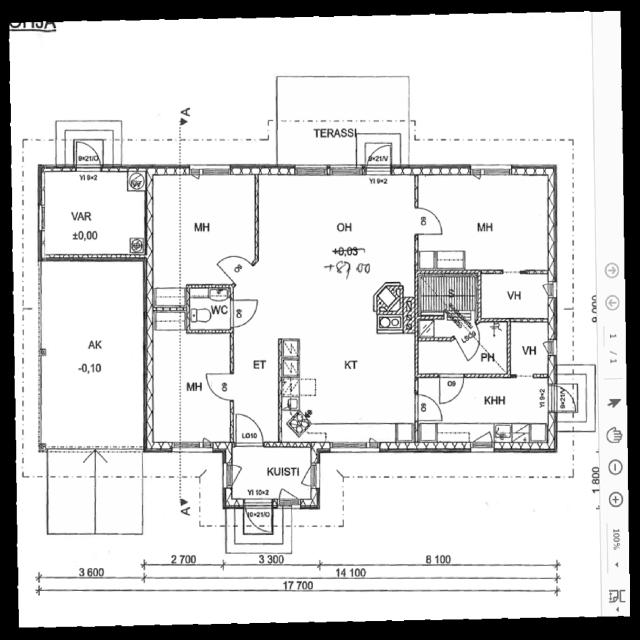door: (211, 251, 256, 282), (233, 411, 265, 447), (228, 297, 260, 329), (204, 369, 235, 402), (436, 372, 466, 406), (364, 142, 394, 175), (415, 204, 445, 236), (74, 140, 104, 172), (414, 392, 444, 422), (244, 501, 270, 534), (552, 384, 578, 414), (222, 462, 240, 488), (188, 164, 204, 183), (469, 164, 485, 182), (544, 280, 558, 300), (542, 340, 556, 356)
window: (329, 440, 380, 455), (168, 440, 212, 454), (194, 163, 232, 179), (474, 164, 513, 178), (293, 163, 329, 178), (327, 164, 362, 179), (220, 461, 238, 490), (34, 199, 48, 236), (468, 443, 496, 454), (544, 280, 559, 299)
zone: (257, 172, 412, 442), (39, 256, 148, 451), (417, 171, 554, 272), (149, 171, 259, 287), (148, 328, 232, 452), (37, 169, 149, 260), (419, 376, 556, 449), (227, 445, 318, 504), (477, 272, 553, 322), (418, 270, 478, 319), (507, 320, 554, 378), (470, 322, 510, 378), (186, 286, 232, 333)
